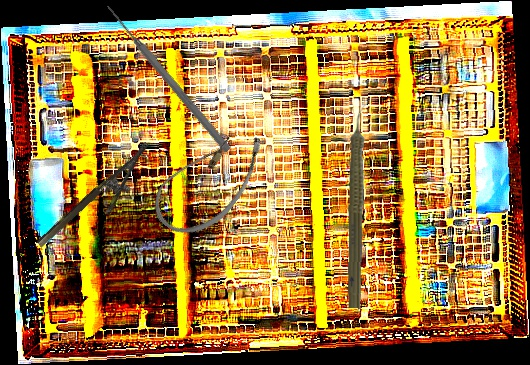Cannula: (143, 109, 276, 251)
Handpiece: (344, 101, 373, 309)
Needle Holder: (34, 141, 166, 263)
Pusher: (102, 2, 234, 154)
